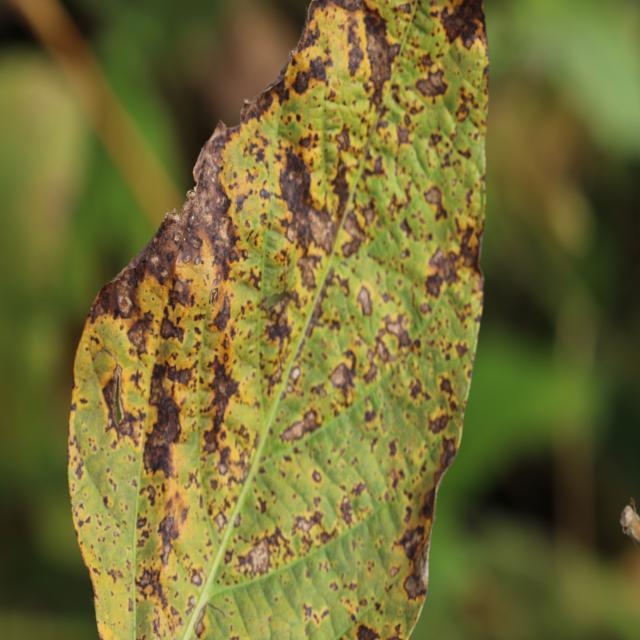Bacterial_Blight: (143, 367, 189, 474), (437, 1, 484, 47), (248, 74, 287, 124), (329, 485, 364, 531), (338, 208, 370, 258), (159, 353, 197, 392), (262, 304, 294, 349), (237, 537, 271, 578), (280, 410, 320, 442), (453, 82, 481, 127), (306, 208, 334, 251), (414, 66, 448, 100), (458, 224, 482, 270), (397, 524, 426, 562), (207, 291, 233, 332), (134, 600, 161, 638), (346, 32, 367, 78), (309, 169, 333, 209), (327, 360, 355, 393), (158, 312, 186, 344), (384, 315, 412, 347), (297, 255, 322, 290), (136, 563, 160, 596), (423, 184, 446, 218), (403, 569, 427, 601), (437, 435, 457, 471), (114, 282, 134, 317), (213, 372, 236, 401), (307, 53, 328, 84), (425, 271, 445, 300), (360, 357, 379, 386), (428, 410, 450, 435), (407, 376, 428, 402), (356, 285, 373, 317), (242, 266, 262, 292), (334, 127, 352, 152), (355, 622, 380, 640), (194, 606, 207, 637), (290, 52, 308, 74), (396, 123, 413, 146), (141, 483, 157, 507), (129, 367, 145, 391), (245, 226, 262, 247), (185, 232, 203, 250), (296, 517, 314, 534), (213, 510, 228, 530), (235, 194, 250, 213), (454, 340, 469, 358), (391, 87, 404, 107), (106, 566, 121, 583), (190, 569, 203, 586), (388, 438, 399, 458), (74, 461, 85, 480), (286, 223, 297, 242), (302, 602, 313, 620), (388, 565, 400, 579), (290, 366, 301, 381), (77, 515, 89, 528), (311, 469, 322, 483), (149, 252, 160, 266), (218, 461, 228, 475), (102, 494, 111, 508), (234, 512, 242, 527), (165, 251, 174, 264), (127, 597, 134, 612), (107, 415, 114, 430), (359, 597, 368, 607), (242, 97, 251, 107), (194, 254, 201, 265), (174, 234, 181, 243), (152, 234, 158, 243), (190, 214, 195, 223), (187, 225, 192, 233)
Soybean: (68, 0, 488, 640)
